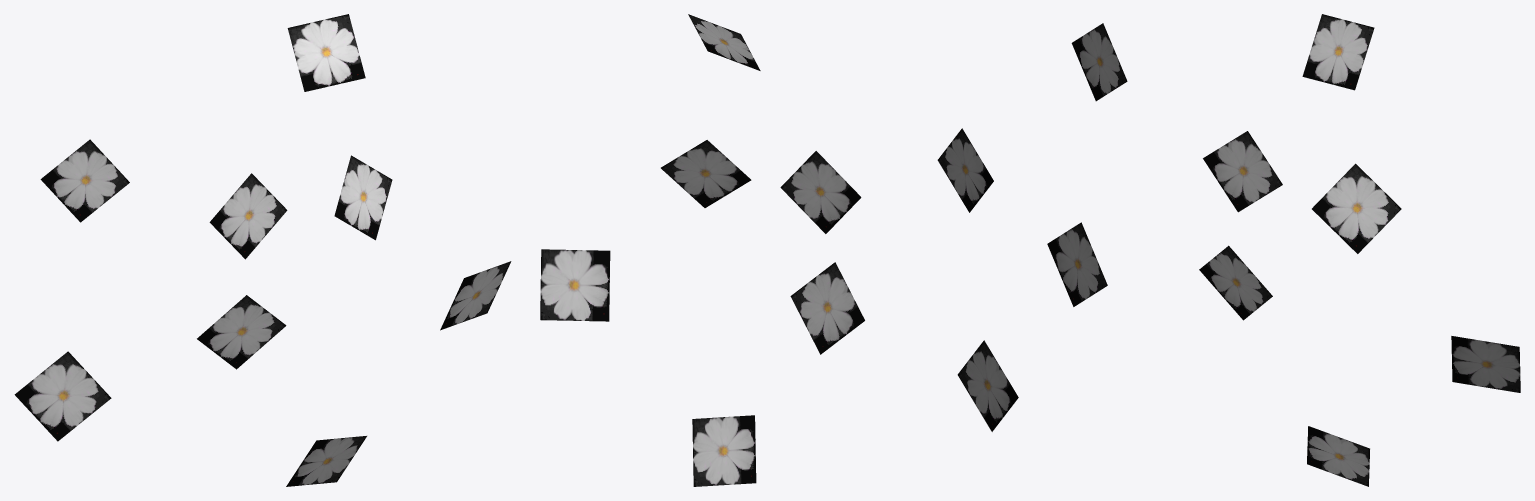
File: Flowers 1.fbx
The picture shows the model from 3 angles, left to right: view 1: azimuth 30°, elevation 25°; view 2: azimuth 150°, elevation 25°; view 3: azimuth 330°, elevation 25°; orthographic projection.
Visible parts, largest first — view 1: Plane; view 2: Plane; view 3: Plane.
Part boxes in pixels (x1,y1,x2,y2): Plane: (14, 14, 511, 486); Plane: (540, 14, 1018, 486); Plane: (1047, 14, 1520, 486).
Size of the model in its own units: 0.9281 by 0.8526 by 0.0964.
